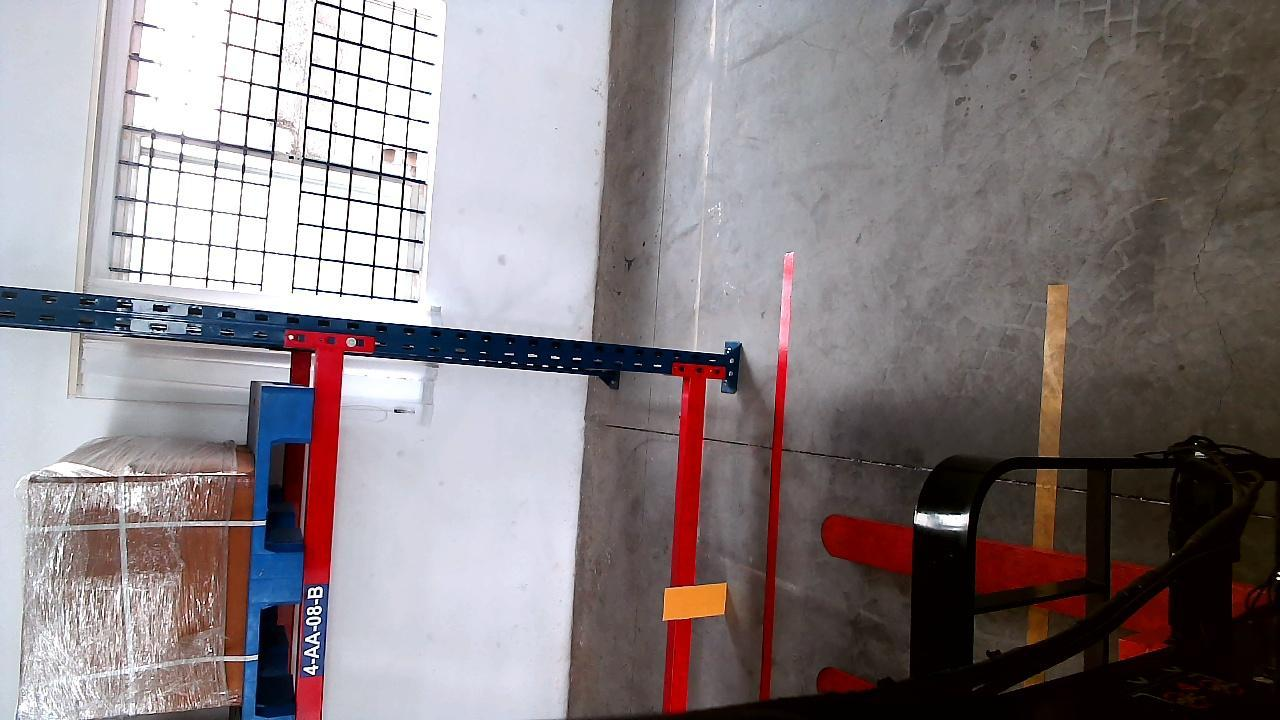red_line: (757, 248, 795, 699)
yellow_line: (1030, 281, 1066, 546)
